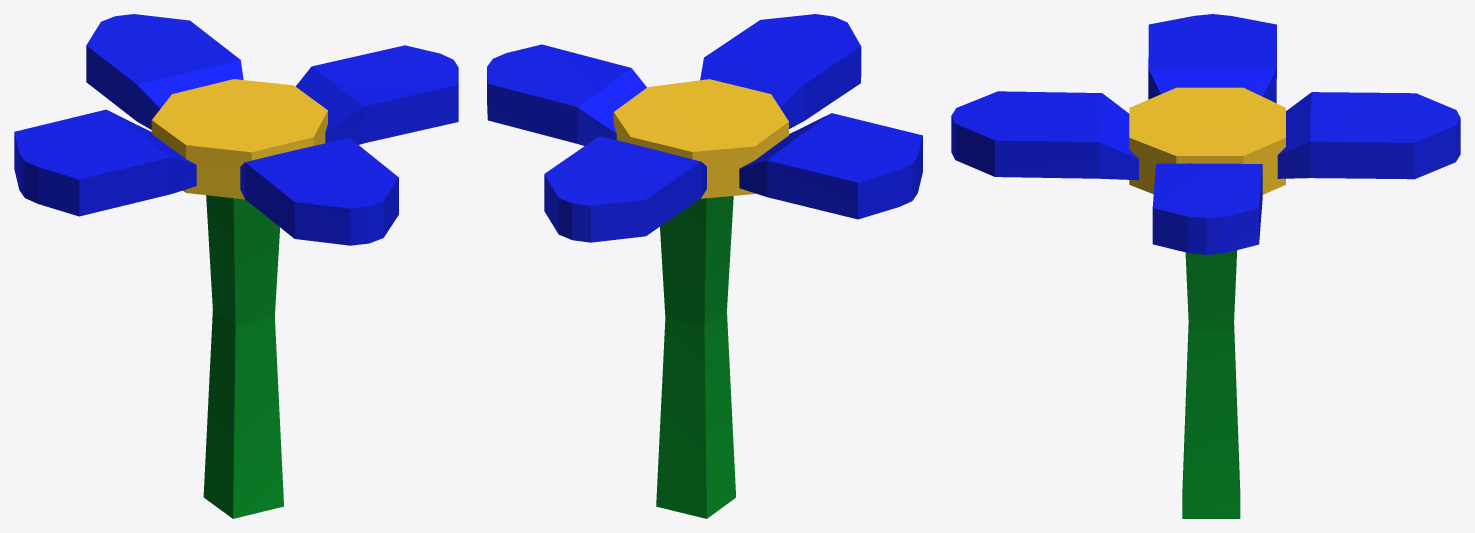
Rendered from Flor1.fbx.
3 renders of one model, left to right at view 1: azimuth 30°, elevation 25°; view 2: azimuth 150°, elevation 25°; view 3: azimuth 270°, elevation 25°, orthographic.
Parts seen in each view (by area): view 1: Flor1; view 2: Flor1; view 3: Flor1.
Part boxes in pixels (x1=…): Flor1: x1=14, y1=14, x2=458, y2=518; Flor1: x1=487, y1=14, x2=922, y2=518; Flor1: x1=951, y1=14, x2=1460, y2=518.
Size of the model in its own units: 1666 by 1754 by 1474.
